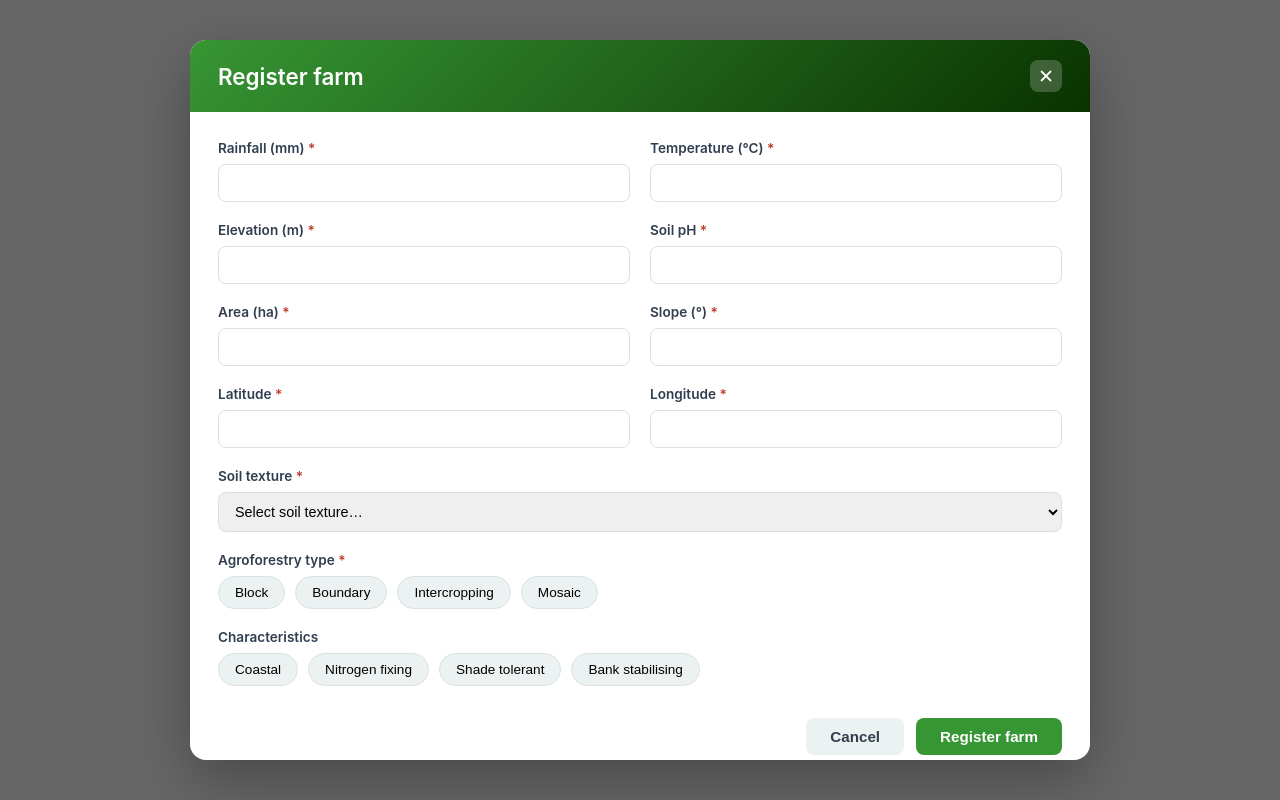
Test: RegisterFarmModal › shows validation errors when submitted with empty required fields
Click the button "Register farm".
click(989, 736)  # box x1=916 y1=718 x2=1062 y2=755
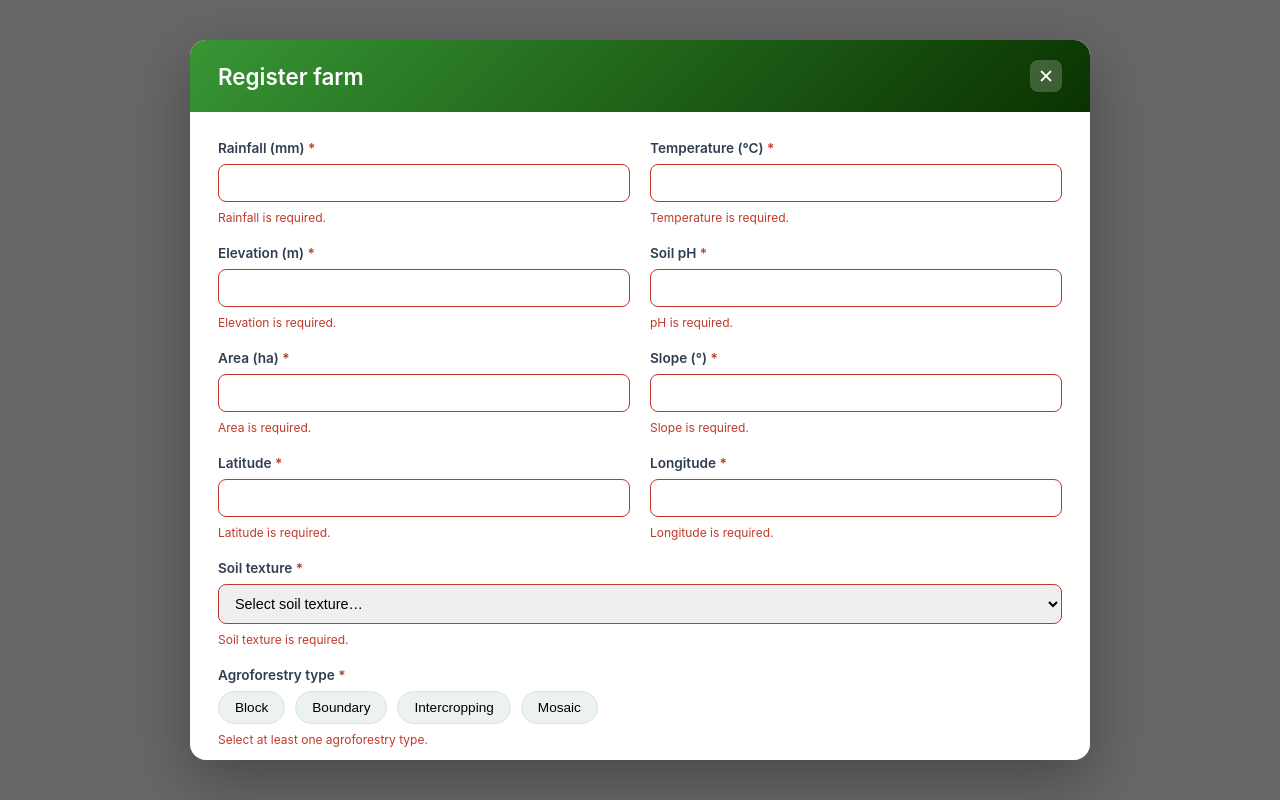
expect the text "Rainfall is required." is shown: met, box x1=218 y1=210 x2=326 y2=225
